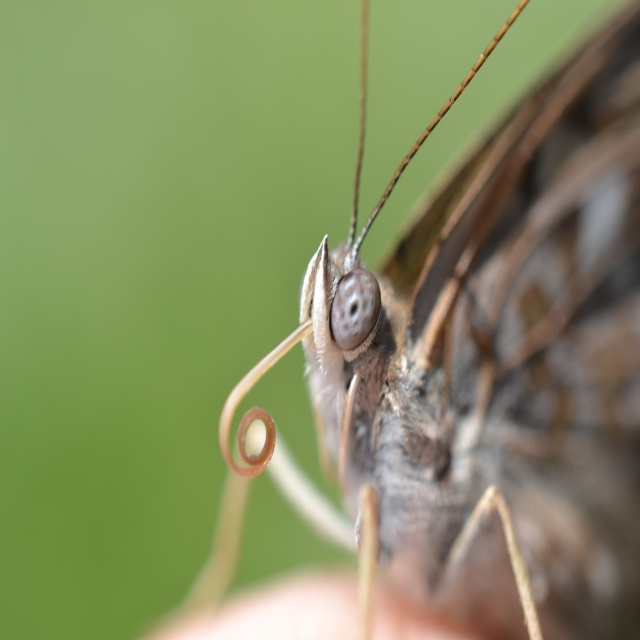Butterfly: (142, 0, 640, 639)
